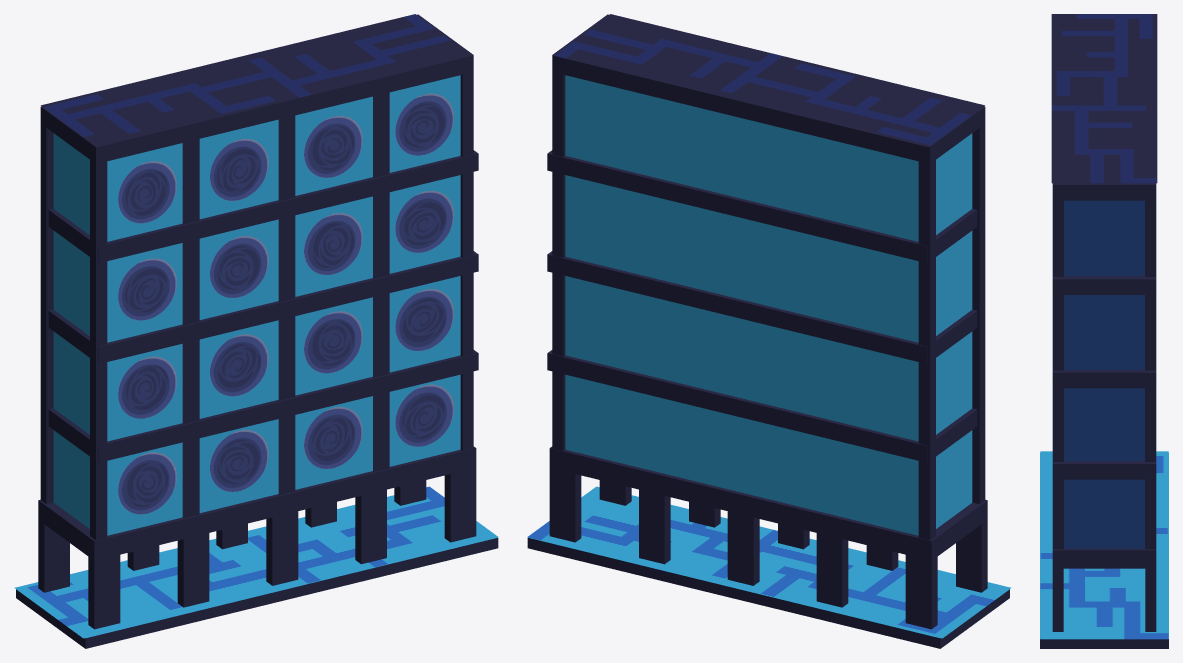
The model's file is 2026-1-8-CarbonCapture-v012.fbx.
The picture shows the model from 3 angles, left to right: view 1: azimuth 30°, elevation 25°; view 2: azimuth 150°, elevation 25°; view 3: azimuth 270°, elevation 25°; orthographic projection. The views are drawn at different scales.
Parts seen in each view (by area): view 1: Cube.011, Plane.003, Cube.014, Cube.003, Plane, Plane.002, Cube.016, Cube.015, Cube.001, Plane.007, Plane.005, Plane.006 (+1 smaller); view 2: Cube.011, Cube.014, Cube.003, Plane, Plane.002, Cube.016, Cube.015, Cube.001, Cube; view 3: Plane.001, Plane, Plane.002, Cube.003, Cube.014, Cube.001, Cube.015, Cube.016, Cube.
Boxes of the visible parts, box(x1,y1,x2,y2) form: Cube.011: box(53, 75, 460, 535); Plane.003: box(118, 93, 453, 514); Cube.014: box(38, 446, 476, 629); Cube.003: box(40, 14, 473, 540); Plane: box(41, 14, 471, 146); Plane.002: box(14, 486, 498, 638); Cube.016: box(48, 350, 478, 462); Cube.015: box(48, 251, 478, 363); Cube.001: box(48, 150, 478, 263); Plane.007: box(182, 139, 199, 518); Plane.005: box(278, 115, 295, 495); Plane.006: box(373, 92, 389, 472); Cube.011: box(565, 75, 972, 535); Cube.014: box(549, 446, 987, 629); Cube.003: box(552, 14, 985, 540); Plane: box(554, 14, 984, 146); Plane.002: box(527, 486, 1011, 638); Cube.016: box(547, 350, 977, 462); Cube.015: box(547, 251, 977, 363); Cube.001: box(547, 150, 977, 263); Cube: box(527, 537, 1009, 648); Plane.001: box(1064, 200, 1144, 548); Plane: box(1051, 14, 1157, 183); Plane.002: box(1040, 451, 1168, 639); Cube.003: box(1053, 183, 1155, 549); Cube.014: box(1052, 480, 1156, 631); Cube.001: box(1052, 183, 1156, 294); Cube.015: box(1052, 295, 1156, 388); Cube.016: box(1052, 388, 1156, 479); Cube: box(1040, 453, 1168, 648).
Size of the model in its own units: 299 by 339 by 86.75.
